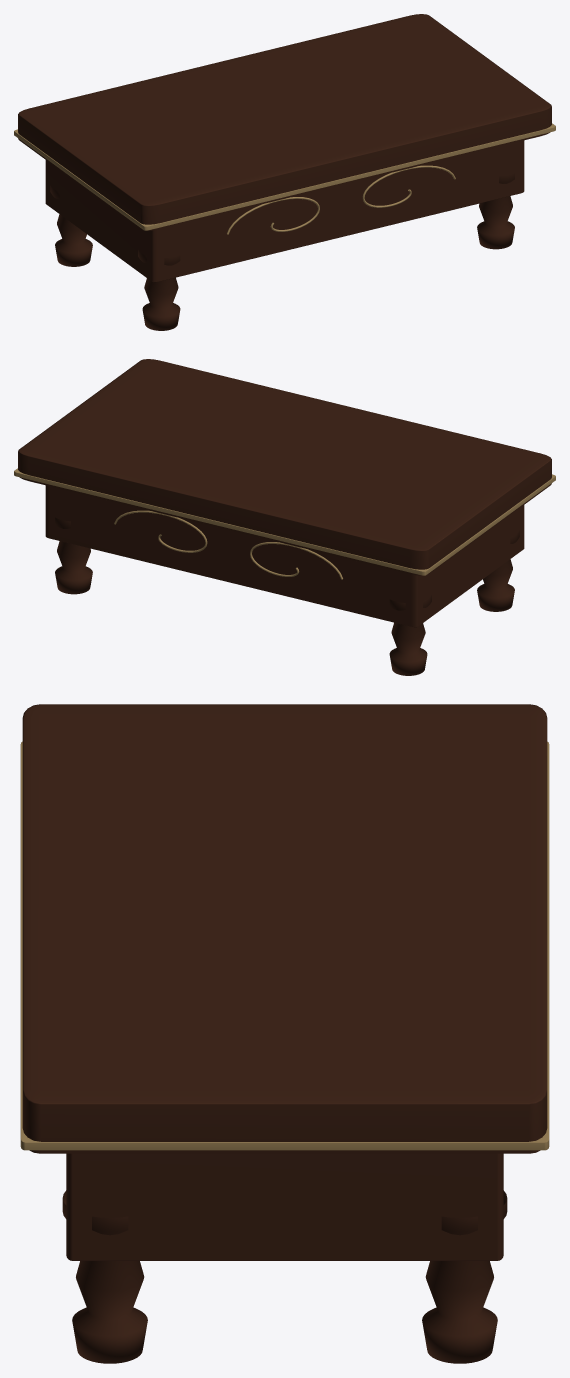
The model's file is Coffee_Table.fbx.
The picture shows the model from 3 angles, top to bottom: view 1: azimuth 30°, elevation 25°; view 2: azimuth 150°, elevation 25°; view 3: azimuth 270°, elevation 25°; orthographic projection. The views are drawn at different scales.
Visible parts, largest first — view 1: Solid tabletop.003, Apron.003, Gold table edge.003, Turned leg.038, Turned leg.040, Turned leg.039, Gilded scroll.027, Gilded scroll.026; view 2: Solid tabletop.003, Apron.003, Gold table edge.003, Turned leg.039, Turned leg.041, Turned leg.038, Gilded scroll.029, Gilded scroll.028; view 3: Solid tabletop.003, Apron.003, Gold table edge.003, Turned leg.040, Turned leg.041.
Boxes of the visible parts, <box> form: Solid tabletop.003: <box>18,14,551,230</box>; Apron.003: <box>45,140,524,282</box>; Gold table edge.003: <box>14,123,555,230</box>; Turned leg.038: <box>138,250,180,330</box>; Turned leg.040: <box>477,172,514,249</box>; Turned leg.039: <box>50,185,92,266</box>; Gilded scroll.027: <box>362,165,455,207</box>; Gilded scroll.026: <box>227,197,319,234</box>; Solid tabletop.003: <box>18,359,551,575</box>; Apron.003: <box>45,485,524,627</box>; Gold table edge.003: <box>14,468,555,575</box>; Turned leg.039: <box>389,595,431,675</box>; Turned leg.041: <box>55,517,92,594</box>; Turned leg.038: <box>477,530,519,611</box>; Gilded scroll.029: <box>114,510,207,552</box>; Gilded scroll.028: <box>250,542,342,579</box>; Solid tabletop.003: <box>22,704,547,1153</box>; Apron.003: <box>66,1153,503,1260</box>; Gold table edge.003: <box>20,741,549,1150</box>; Turned leg.040: <box>62,1190,147,1363</box>; Turned leg.041: <box>422,1190,507,1363</box>.
Bounding box in the file's own units: 1.3 × 0.43 × 0.725.
